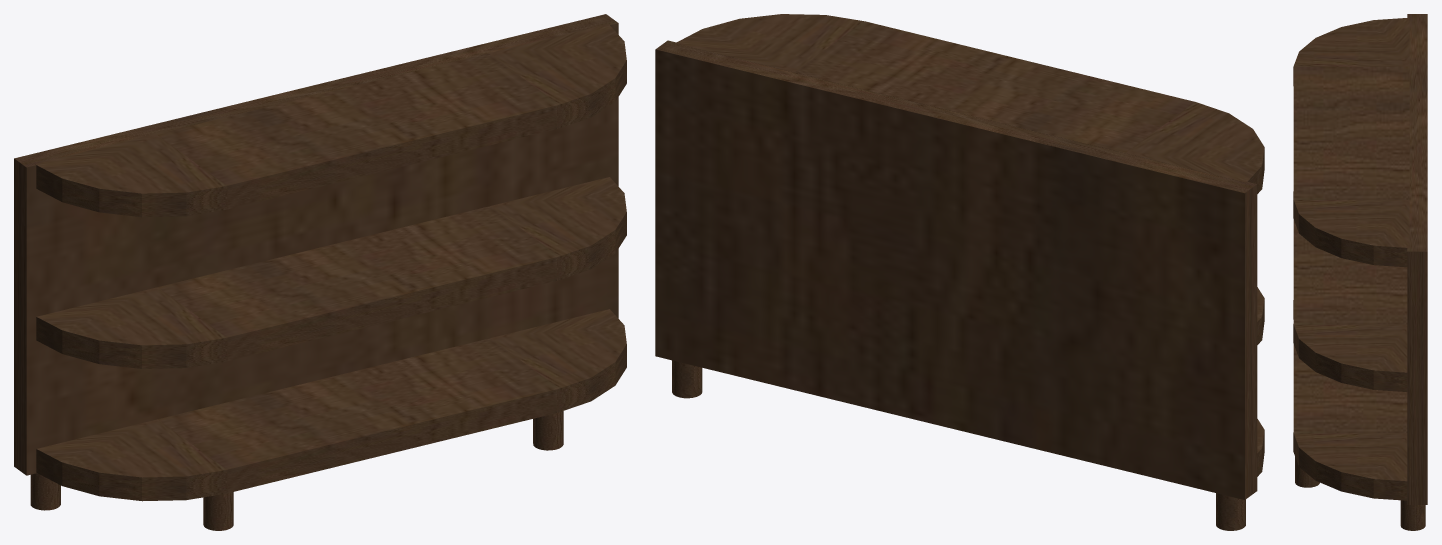
File: Cabinet without glass.fbx
The picture shows the model from 3 angles, left to right: view 1: azimuth 30°, elevation 25°; view 2: azimuth 150°, elevation 25°; view 3: azimuth 270°, elevation 25°; orthographic projection. The views are drawn at different scales.
Parts seen in each view (by area): view 1: pCube2, pCube4, pCube1, pCube3, pCylinder8, pCylinder1, pCylinder6, pCylinder9, pCylinder2, pCylinder7, pCylinder12, pCylinder13 (+1 smaller); view 2: pCube2, pCube4, pCylinder8, pCylinder9, pCylinder11, pCylinder10; view 3: pCube4, pCube2, pCube3, pCylinder9, pCylinder7, pCylinder2, pCube1, pCylinder8, pCylinder11, pCylinder13.
Part boxes in pixels (<box>): pCube2: <box>14,14,618,475</box>; pCube4: <box>157,53,559,209</box>; pCube1: <box>158,338,559,492</box>; pCube3: <box>158,206,559,360</box>; pCylinder8: <box>35,134,227,217</box>; pCylinder1: <box>36,419,227,501</box>; pCylinder6: <box>36,287,227,368</box>; pCylinder9: <box>489,24,626,128</box>; pCylinder2: <box>490,309,626,412</box>; pCylinder7: <box>490,177,626,280</box>; pCylinder12: <box>203,492,233,530</box>; pCylinder13: <box>533,411,563,450</box>; pCube2: <box>655,40,1257,499</box>; pCube4: <box>794,21,1194,153</box>; pCylinder8: <box>1125,102,1264,193</box>; pCylinder9: <box>675,14,863,72</box>; pCylinder11: <box>672,360,702,398</box>; pCylinder10: <box>1216,493,1245,530</box>; pCube4: <box>1293,66,1409,199</box>; pCube2: <box>1407,14,1427,504</box>; pCube3: <box>1293,220,1407,324</box>; pCylinder9: <box>1293,199,1409,267</box>; pCylinder7: <box>1293,324,1407,391</box>; pCylinder2: <box>1293,432,1407,500</box>; pCube1: <box>1293,344,1407,433</box>; pCylinder8: <box>1293,17,1409,85</box>; pCylinder11: <box>1400,500,1425,530</box>; pCylinder13: <box>1295,457,1319,487</box>.
Bounding box in the file's own units: 16.3 × 9.07 × 3.89.
1 material, 1 textured.
